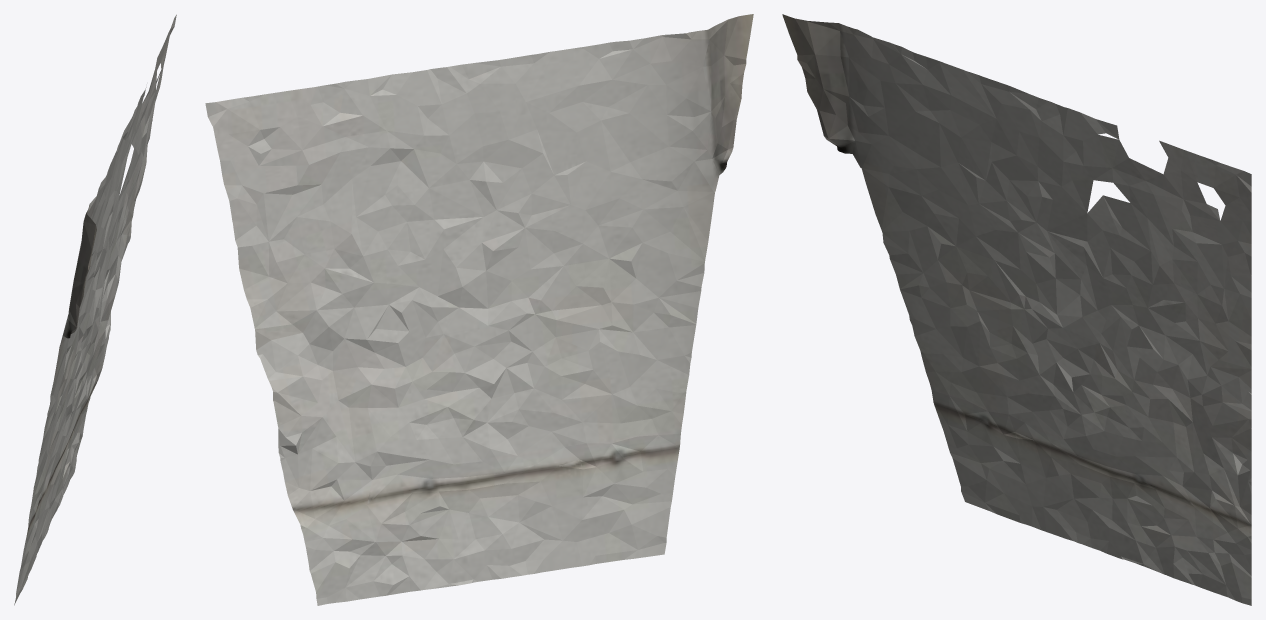
3 views of the same model, side by side, from view 1: azimuth 30°, elevation 25°; view 2: azimuth 150°, elevation 25°; view 3: azimuth 270°, elevation 25° (orthographic). The views are drawn at different scales.
Size of the model in its own units: 0.5894 by 0.8374 by 0.7297.
Materials: 2 (2 with a texture image).
